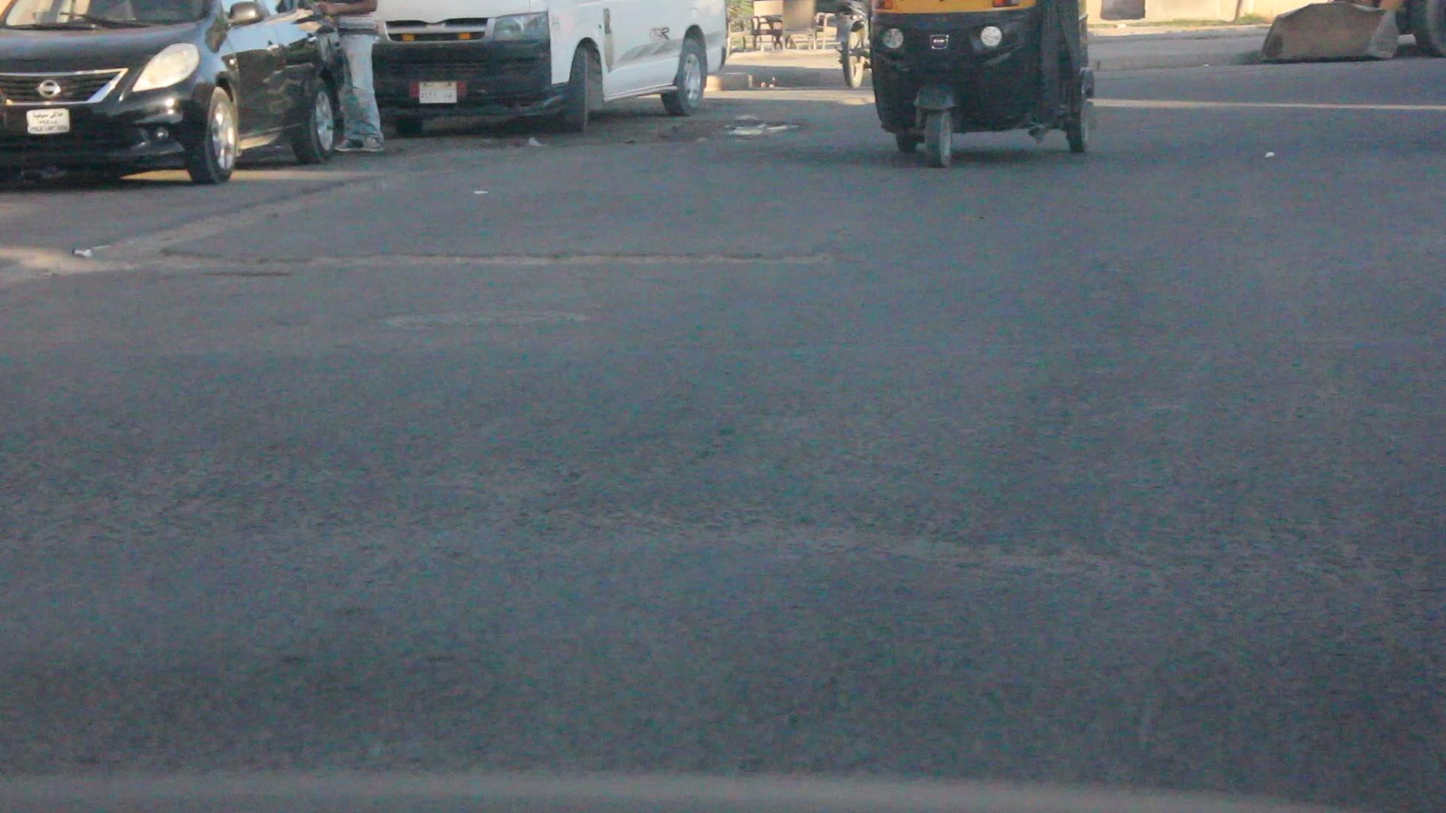Pothole: (203, 245, 842, 279), (659, 109, 819, 152)
